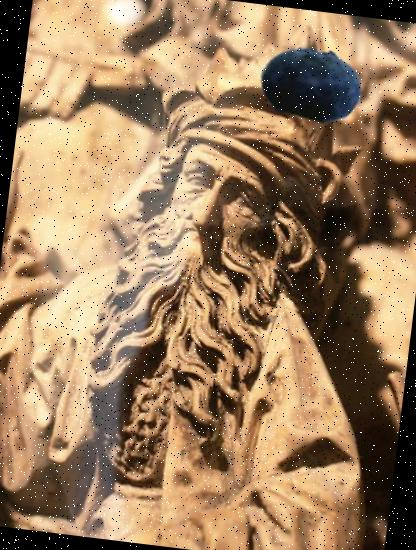Blueberry: (254, 26, 369, 141)
